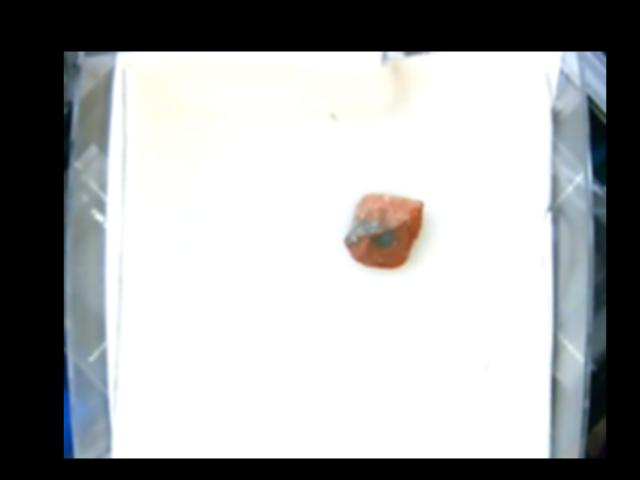Brisk: (344, 189, 421, 267)
